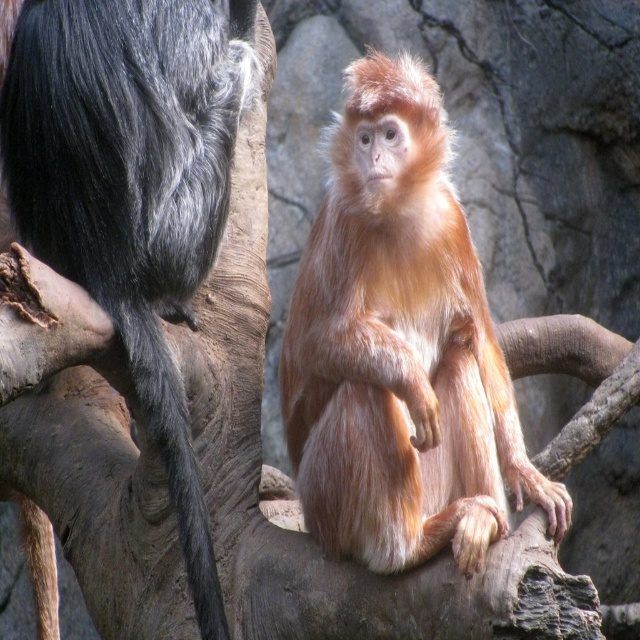Monkey: (276, 44, 574, 584)
